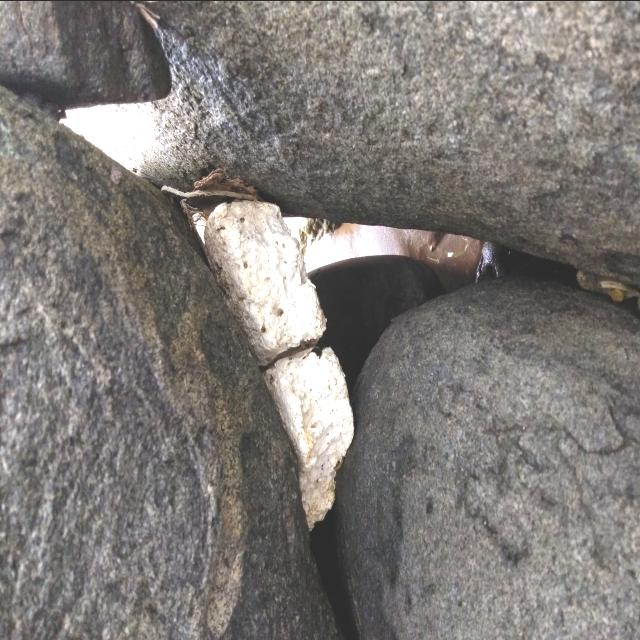Rope - strings: (161, 183, 255, 197)
Styrofoam piece: (203, 199, 326, 365), (262, 345, 354, 529)
